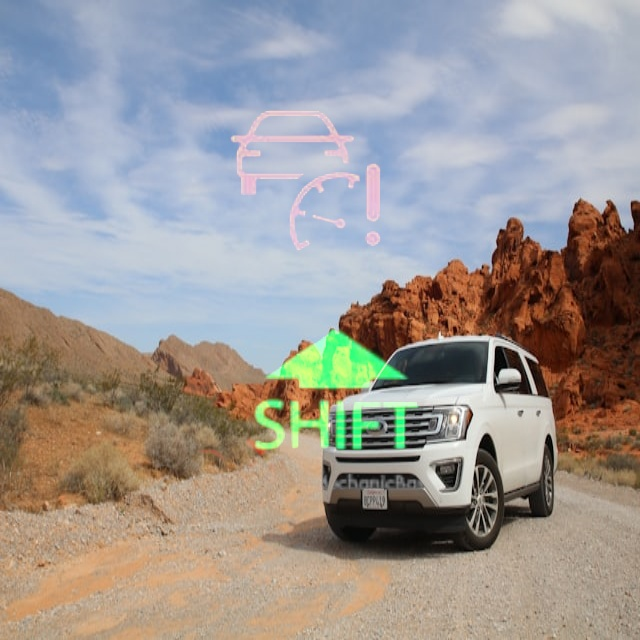symbol: (227, 284, 444, 501), (204, 80, 407, 283), (151, 383, 326, 558)
